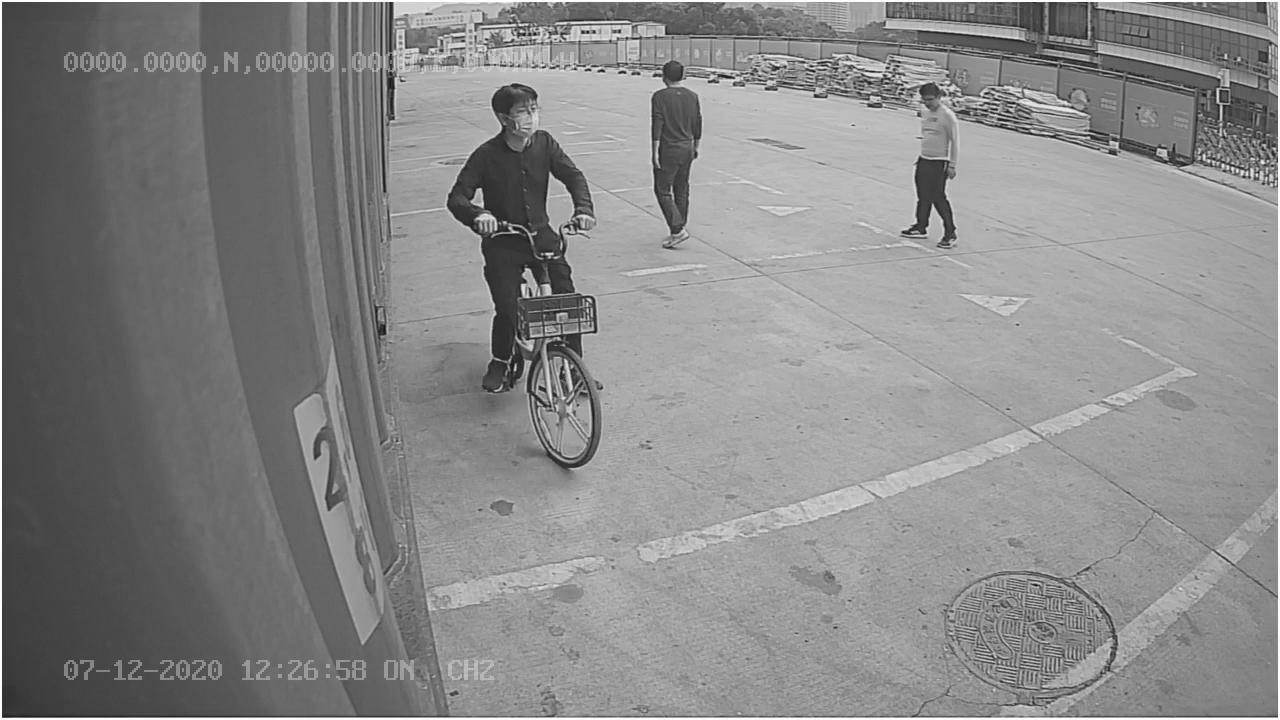person: (646, 54, 711, 256)
